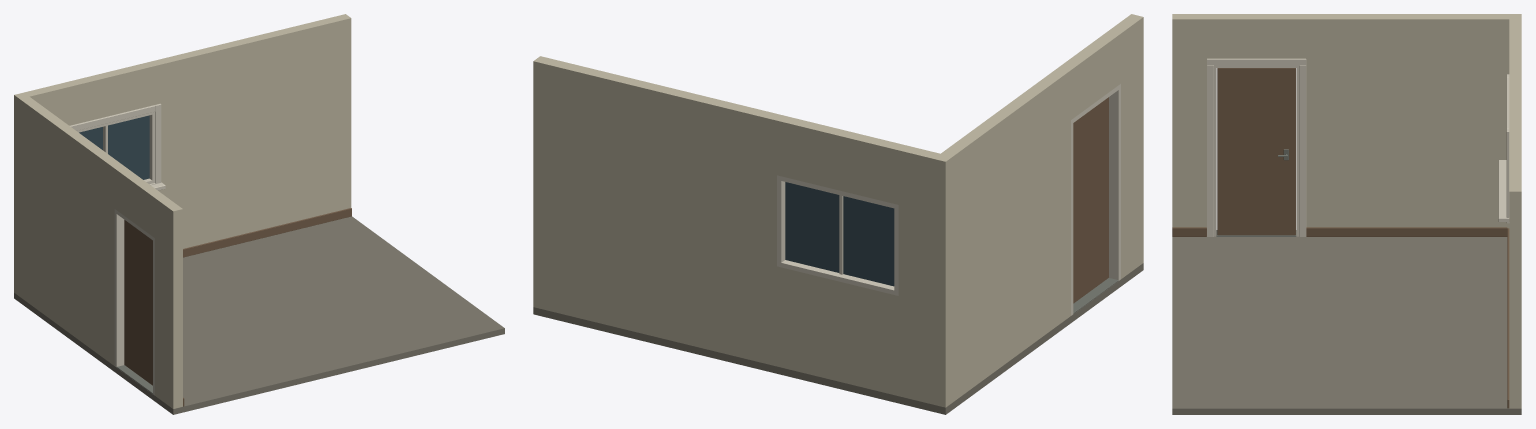
The model's file is Motel_Architecture.fbx.
3 renders of one model, left to right at view 1: azimuth 30°, elevation 25°; view 2: azimuth 150°, elevation 25°; view 3: azimuth 270°, elevation 25°, orthographic. The views are drawn at different scales.
Visible parts, largest first — view 1: Motel_Back_Wall, Motel_Floor, Motel_Left_Wall, Motel_Entrance_Door, Motel_Window, Motel_Entrance_Frame, Motel_Baseboards, Motel_Wall_Trim; view 2: Motel_Back_Wall, Motel_Left_Wall, Motel_Window, Motel_Entrance_Door, Motel_Floor, Motel_Entrance_Frame; view 3: Motel_Floor, Motel_Left_Wall, Motel_Entrance_Door, Motel_Back_Wall, Motel_Wall_Trim, Motel_Baseboards, Motel_Entrance_Frame, Motel_Window.
Boxes of the visible parts, x1,y1,x2,y2 form: Motel_Back_Wall: [14, 14, 351, 296]; Motel_Floor: [14, 216, 504, 414]; Motel_Left_Wall: [19, 96, 182, 408]; Motel_Entrance_Door: [124, 220, 152, 385]; Motel_Window: [77, 112, 165, 190]; Motel_Entrance_Frame: [114, 209, 154, 395]; Motel_Baseboards: [183, 208, 351, 406]; Motel_Wall_Trim: [69, 103, 161, 185]; Motel_Back_Wall: [533, 56, 952, 407]; Motel_Left_Wall: [941, 14, 1143, 402]; Motel_Window: [777, 175, 898, 295]; Motel_Entrance_Door: [1073, 97, 1108, 303]; Motel_Floor: [533, 263, 1143, 414]; Motel_Entrance_Frame: [1071, 84, 1120, 315]; Motel_Floor: [1172, 236, 1521, 414]; Motel_Left_Wall: [1172, 14, 1509, 228]; Motel_Entrance_Door: [1217, 68, 1295, 235]; Motel_Back_Wall: [1509, 14, 1521, 408]; Motel_Wall_Trim: [1207, 58, 1509, 236]; Motel_Baseboards: [1172, 227, 1509, 408]; Motel_Entrance_Frame: [1214, 65, 1298, 236]; Motel_Window: [1498, 160, 1509, 221].
Bounding box in the file's own units: 4.74 × 2.78 × 3.94.
